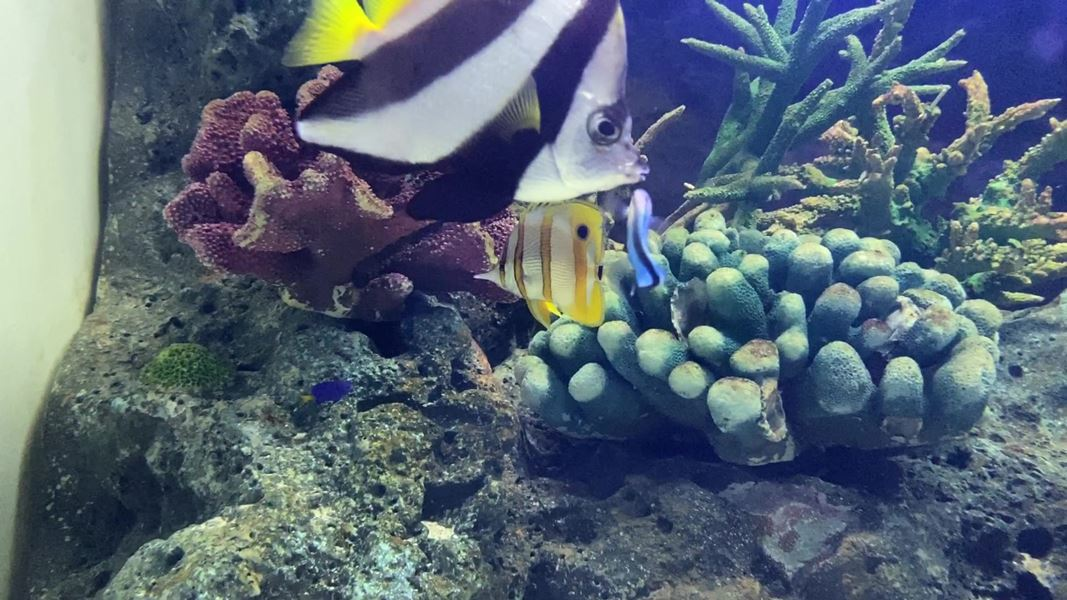Bluesteak cleaner wrasse: (616, 176, 665, 296)
